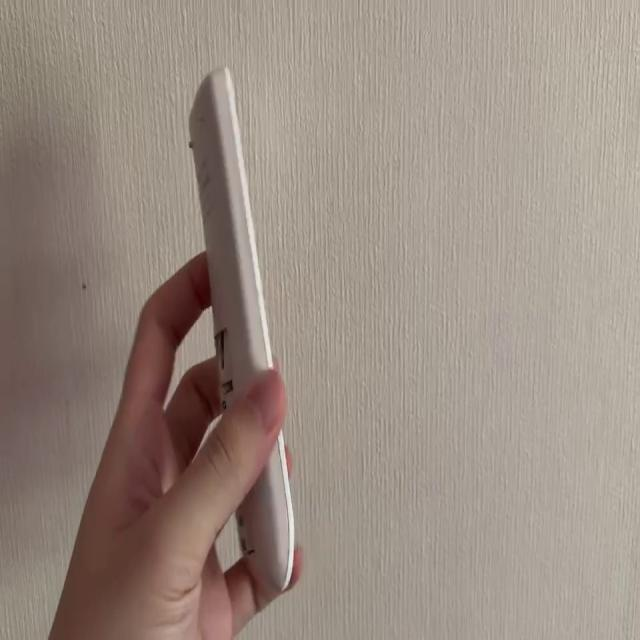remote: (188, 69, 302, 596)
